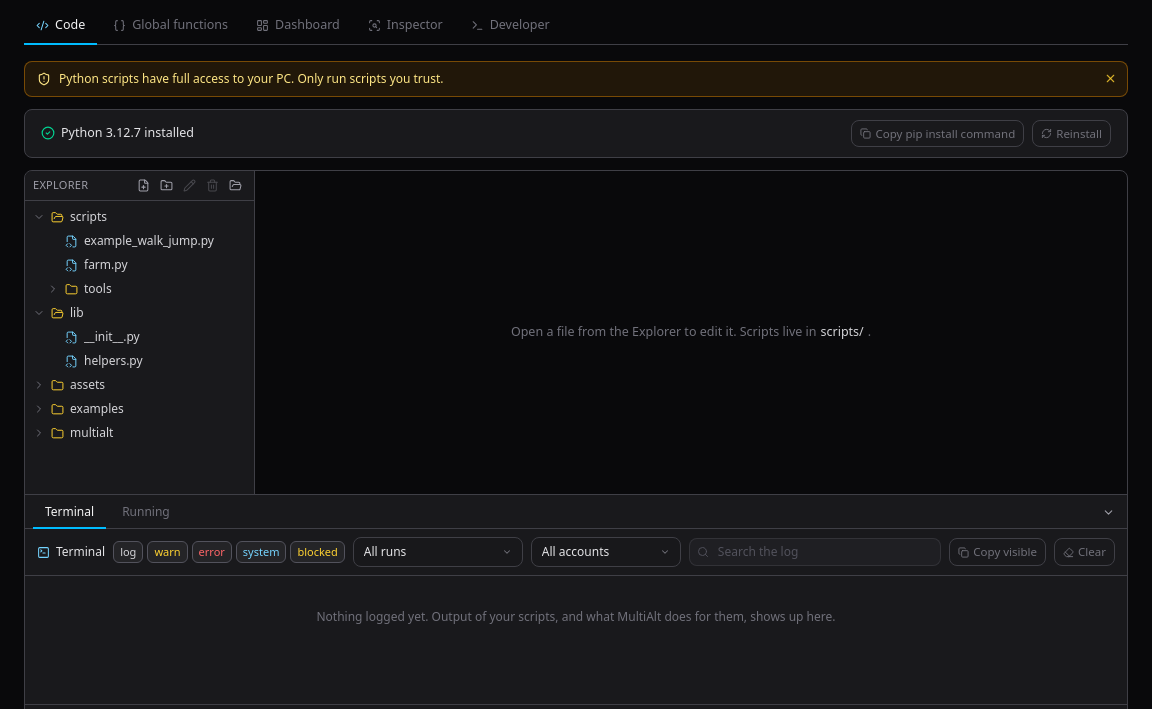
Scenario: PythonAutomationView warning › goes away with the X and does not come back
Click the button named "Dismiss the warning". click: (1110, 78)
box: [1102, 70, 1119, 87]
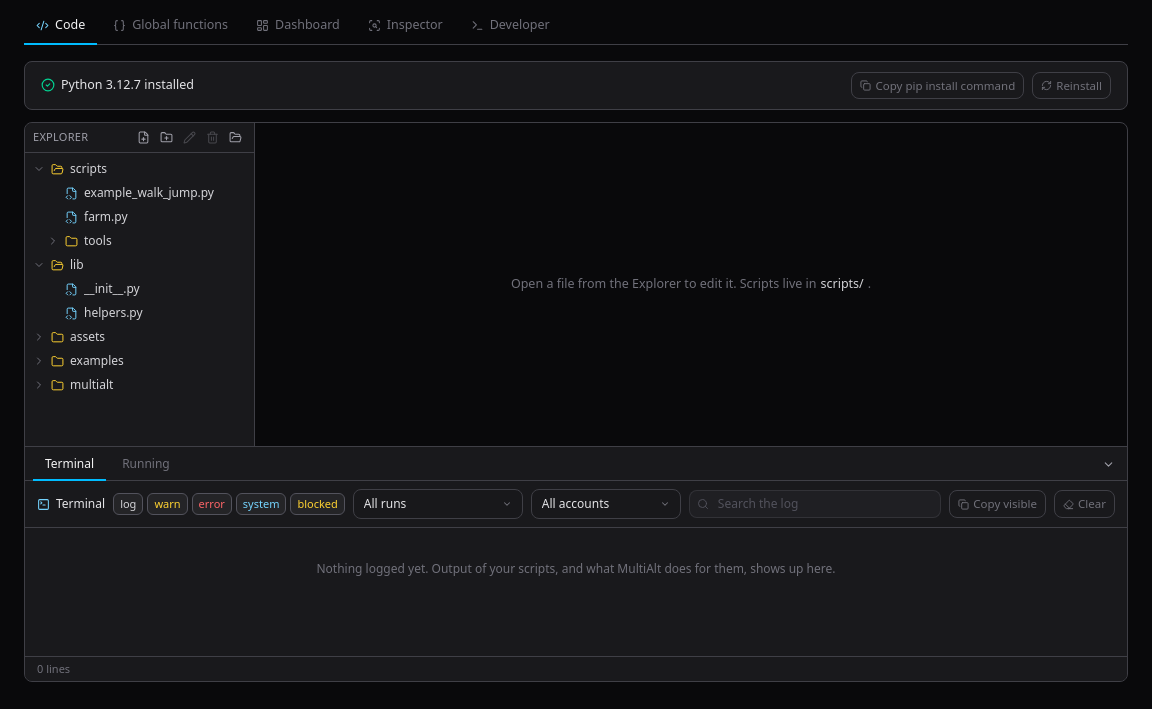
Now the element with test id "python-warning" is gone
